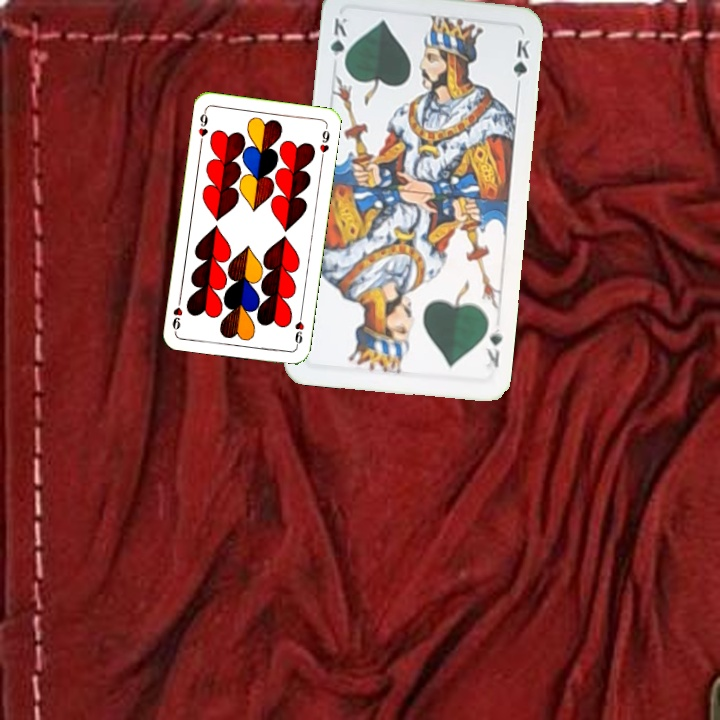GK: (326, 13, 350, 71), (481, 323, 505, 371)
H9: (290, 309, 307, 350), (194, 106, 210, 147)
